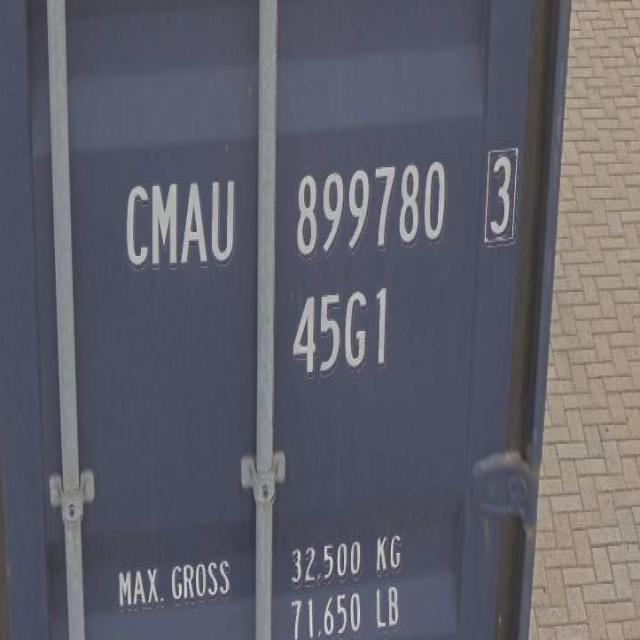dv: (481, 145, 521, 253)
owner: (120, 172, 236, 279)
serial: (290, 156, 450, 262)
size: (288, 279, 393, 387)
